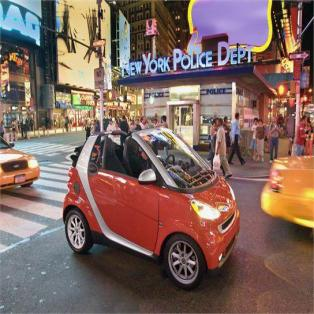Auto: (60, 126, 240, 292)
